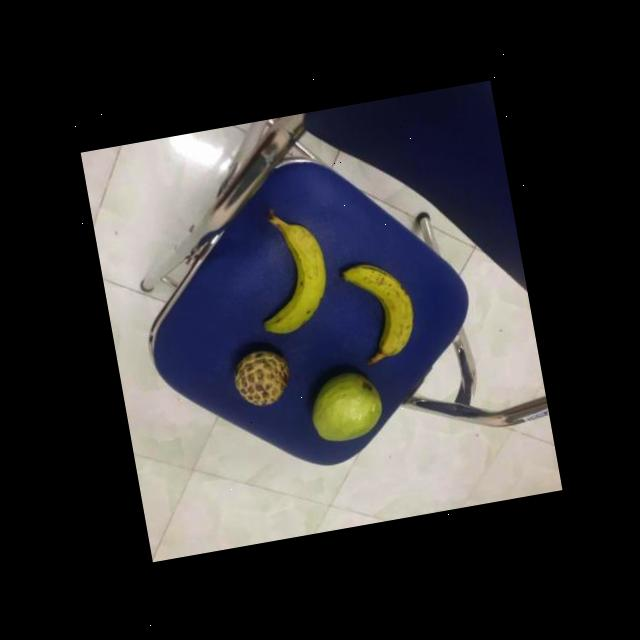Sakya fruit: (225, 345, 291, 410)
banana: (240, 214, 334, 338), (334, 257, 420, 366)
guava: (299, 364, 386, 444)
